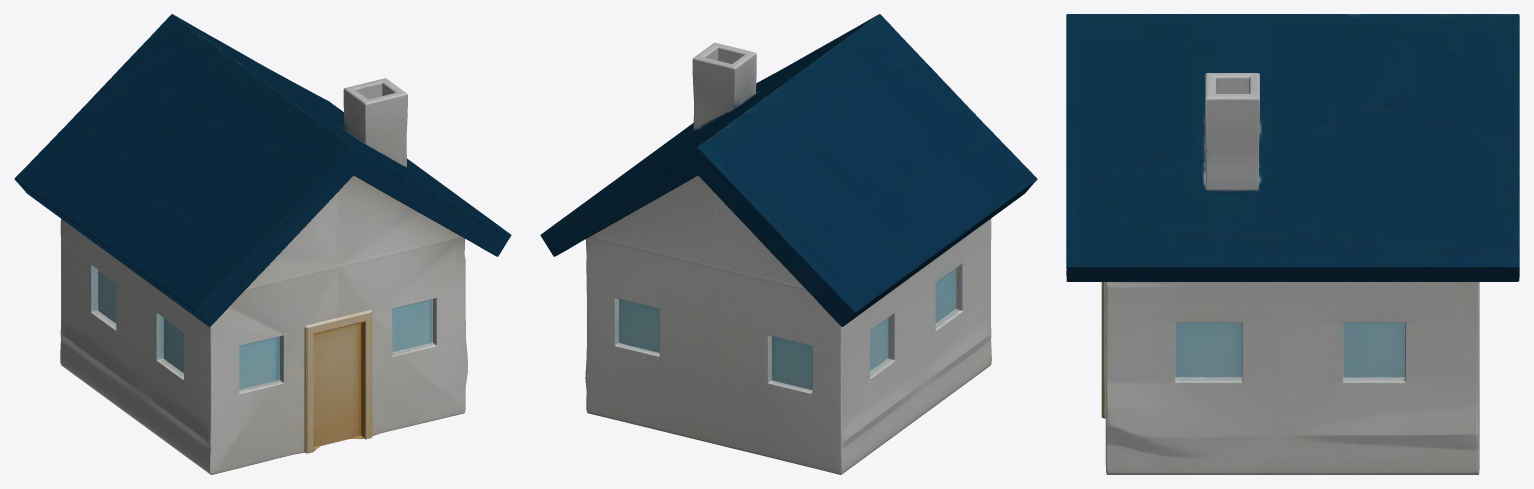
3 views of the same model, side by side, from view 1: azimuth 30°, elevation 25°; view 2: azimuth 150°, elevation 25°; view 3: azimuth 270°, elevation 25° (orthographic). The views are drawn at different scales.
Parts seen in each view (by area): view 1: material; view 2: material; view 3: material.
Boxes of the visible parts, x1,y1,x2,y2 form: material: [14, 14, 511, 474]; material: [540, 14, 1037, 474]; material: [1066, 14, 1519, 474].
Size of the model in its own units: 0.8108 by 0.7592 by 0.8111.
Materials: 1 (1 with a texture image).
